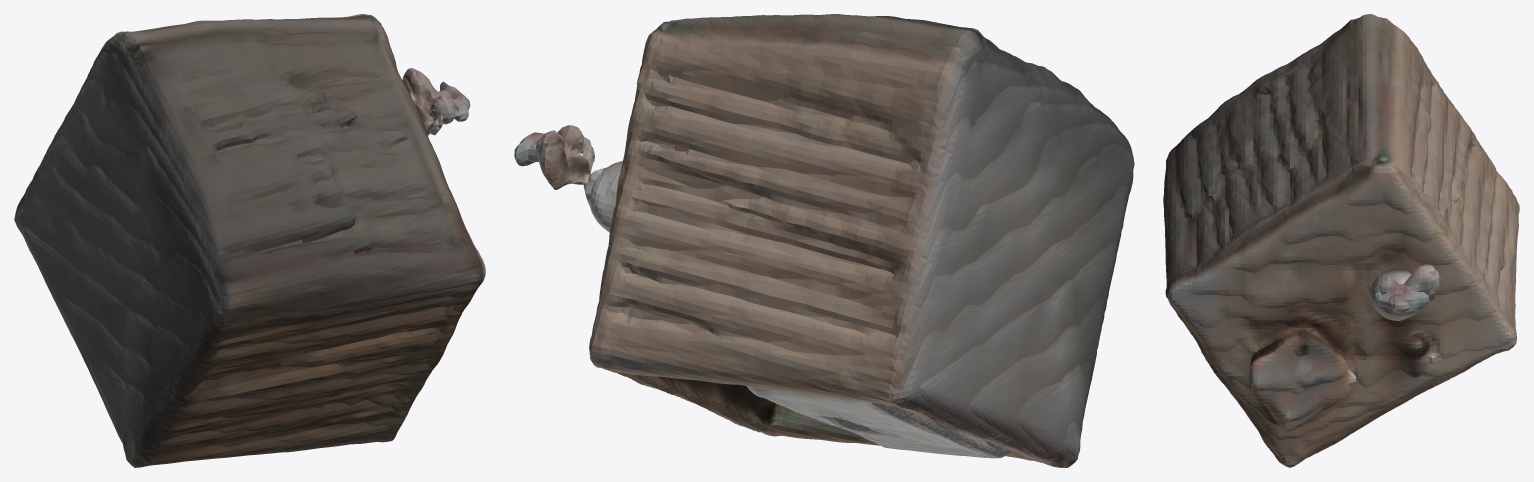
File: cascade-night-stand-new.glb
3 renders of one model, left to right at view 1: azimuth 30°, elevation 25°; view 2: azimuth 150°, elevation 25°; view 3: azimuth 270°, elevation 25°, orthographic. The views are drawn at different scales.
Parts seen in each view (by area): view 1: orient; view 2: orient; view 3: orient.
Boxes of the visible parts, x1,y1,x2,y2 form: orient: (14, 14, 485, 467); orient: (514, 14, 1134, 467); orient: (1163, 14, 1519, 467).
Size of the model in its own units: 0.45 by 0.45 by 0.4.
